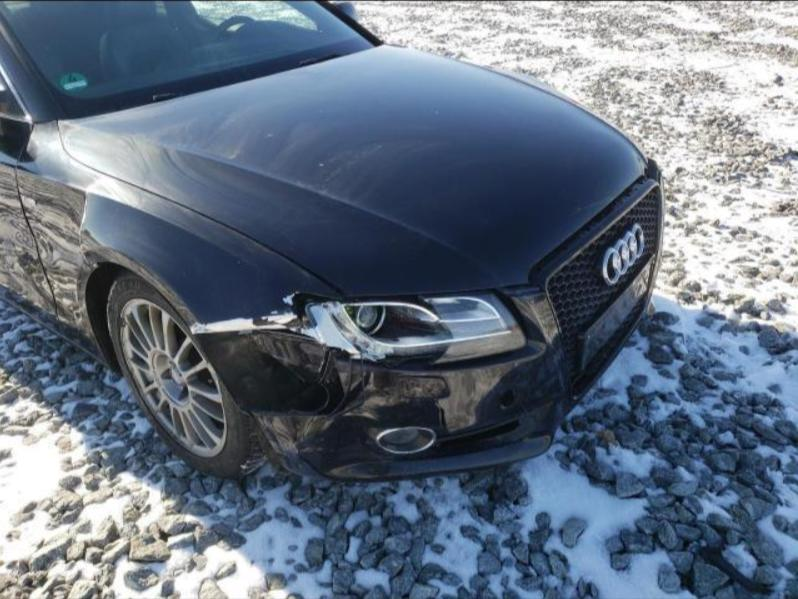Broken part: (190, 156, 666, 483), (294, 288, 529, 368)
Flaking: (552, 348, 565, 366)
Missing part: (500, 390, 515, 406)
Scratch: (77, 194, 96, 267)
